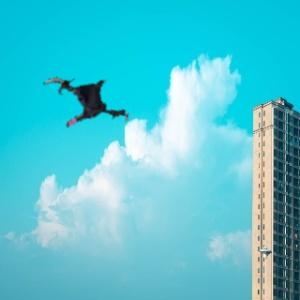drone: (43, 56, 135, 148)
